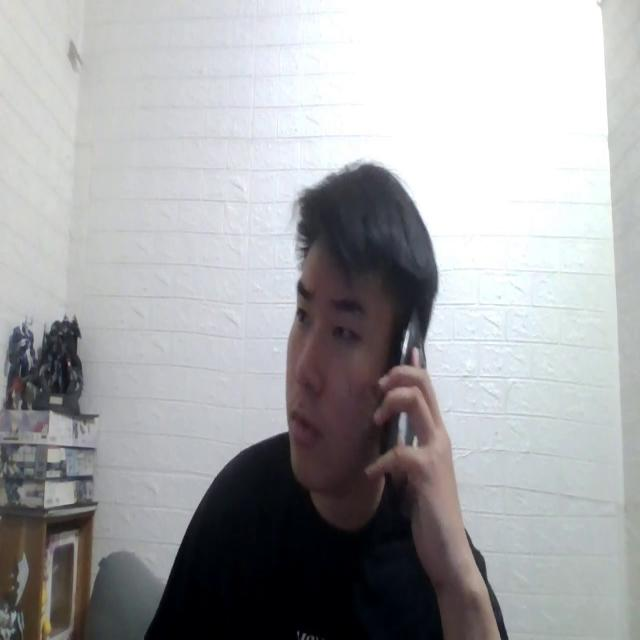phone: (385, 302, 427, 494)
student: (136, 154, 509, 640)
